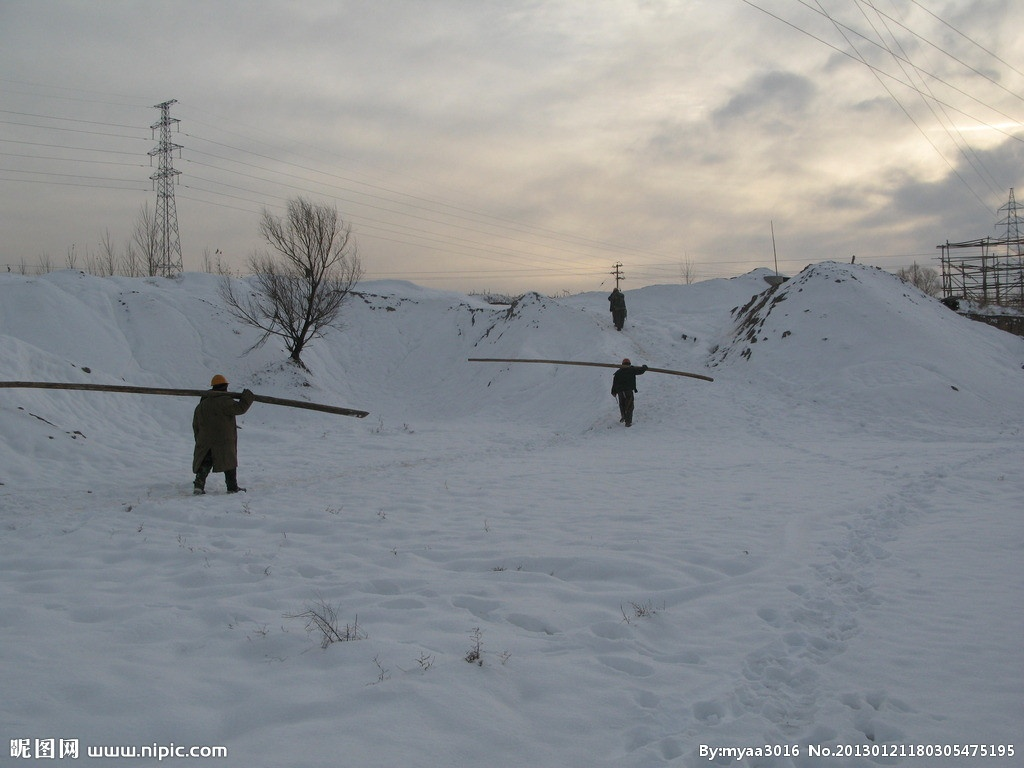red: (620, 356, 632, 367)
yellow: (210, 374, 228, 393)
